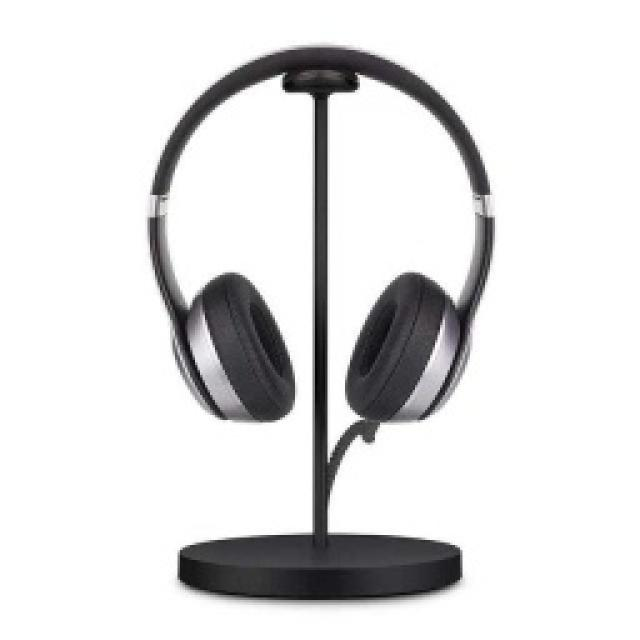headphones: (145, 42, 495, 428)
